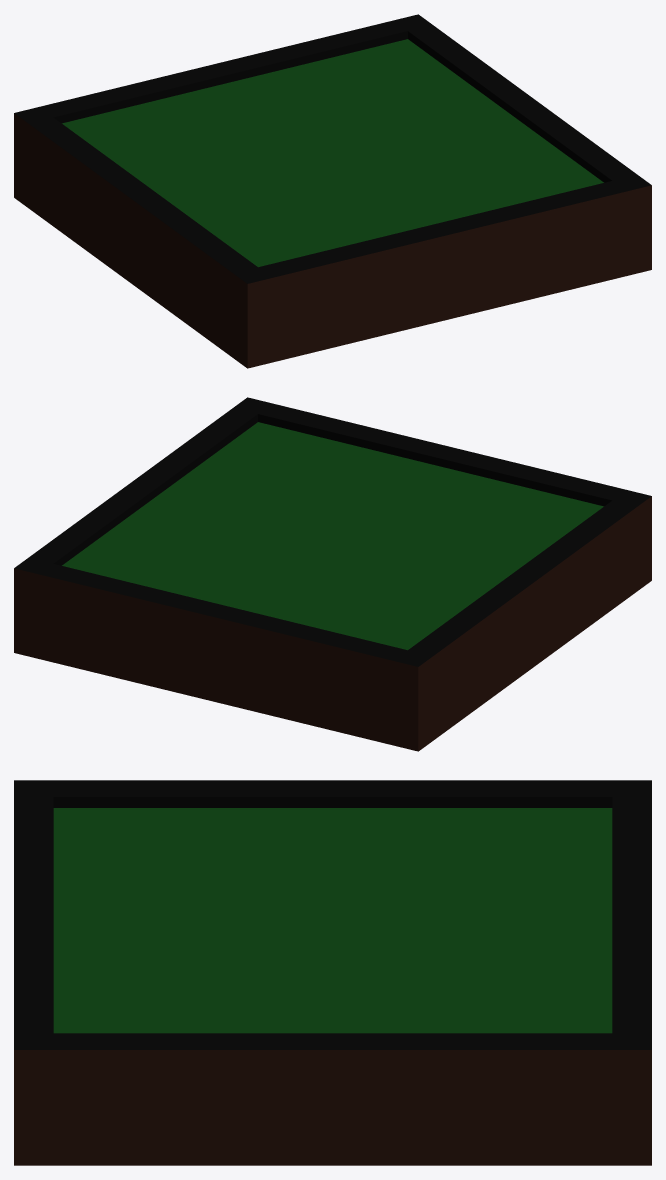
The model's file is Block.fbx.
3 views of the same model, one above another, from view 1: azimuth 30°, elevation 25°; view 2: azimuth 150°, elevation 25°; view 3: azimuth 270°, elevation 25° (orthographic). The views are drawn at different scales.
Visible parts, largest first — view 1: Block; view 2: Block; view 3: Block.
Part boxes in pixels (x1,y1,x2,y2): Block: [14, 14, 651, 368]; Block: [14, 397, 651, 751]; Block: [14, 780, 651, 1165].
Size of the model in its own units: 1000 by 200 by 1000.
